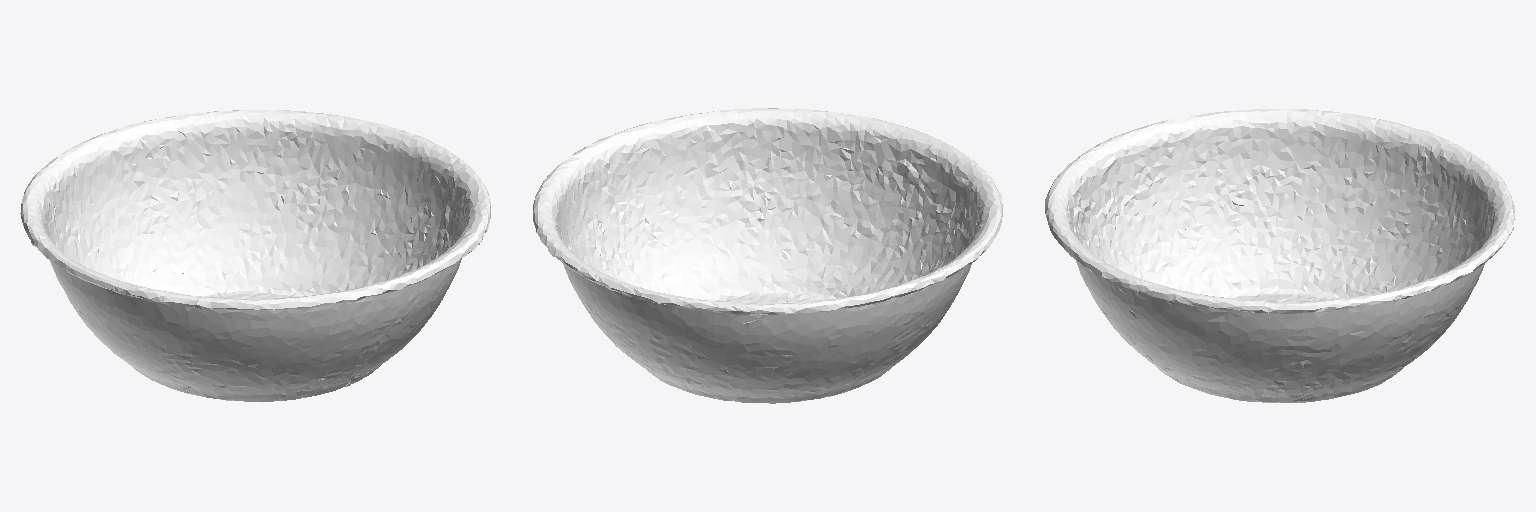
URDF robot description (024_bowl_0):
<?xml version='1.0' encoding='utf-8'?>
<robot name="024_bowl_0">
        <link name="link_0">
            <visual>
                <origin xyz="0.0 0.0 0.0" rpy="0.0 0.0 0.0" />
                <geometry>
                    <mesh filename="textured_objs/textured.obj" scale="1 1 1.0" />
                </geometry>
                <material name="white">
                    <color rgba="1 1 1 1" />
                </material>
            </visual>
            <collision>
                <origin xyz="0.0 0.0 0.0" rpy="0.0 0.0 0.0" />
                <geometry>
                    <mesh filename="textured_objs/textured.obj" scale="1 1 1.0" />
                </geometry>
            </collision>
            <inertial>
                <mass value="0.1" />
                <inertia ixx="0.0001" ixy="0.0" ixz="0.0" iyy="0.0001" iyz="0.0" izz="0.0001" />
            </inertial>
        </link>
    </robot>

--- Render facts (derived) ---
Views: 3 orthographic renders of the robot side by side, from view 1: azimuth 30°, elevation 25°; view 2: azimuth 150°, elevation 25°; view 3: azimuth 270°, elevation 25°.
Robot: 024_bowl_0 — 1 links, 0 joints (none); root link link_0; default pose: all joints at 0.
Links seen in each view (by area): view 1: link_0; view 2: link_0; view 3: link_0.
Boxes of the visible links, x1,y1,x2,y2 form: link_0: (20, 110, 490, 401); link_0: (533, 108, 1003, 403); link_0: (1045, 109, 1515, 402).
Bounding box of the posed robot: 0.1615 × 0.1612 × 0.055 m (x, y, z).
Meshes: 1 distinct files referenced, 1 mesh visuals loaded (1 OBJ).